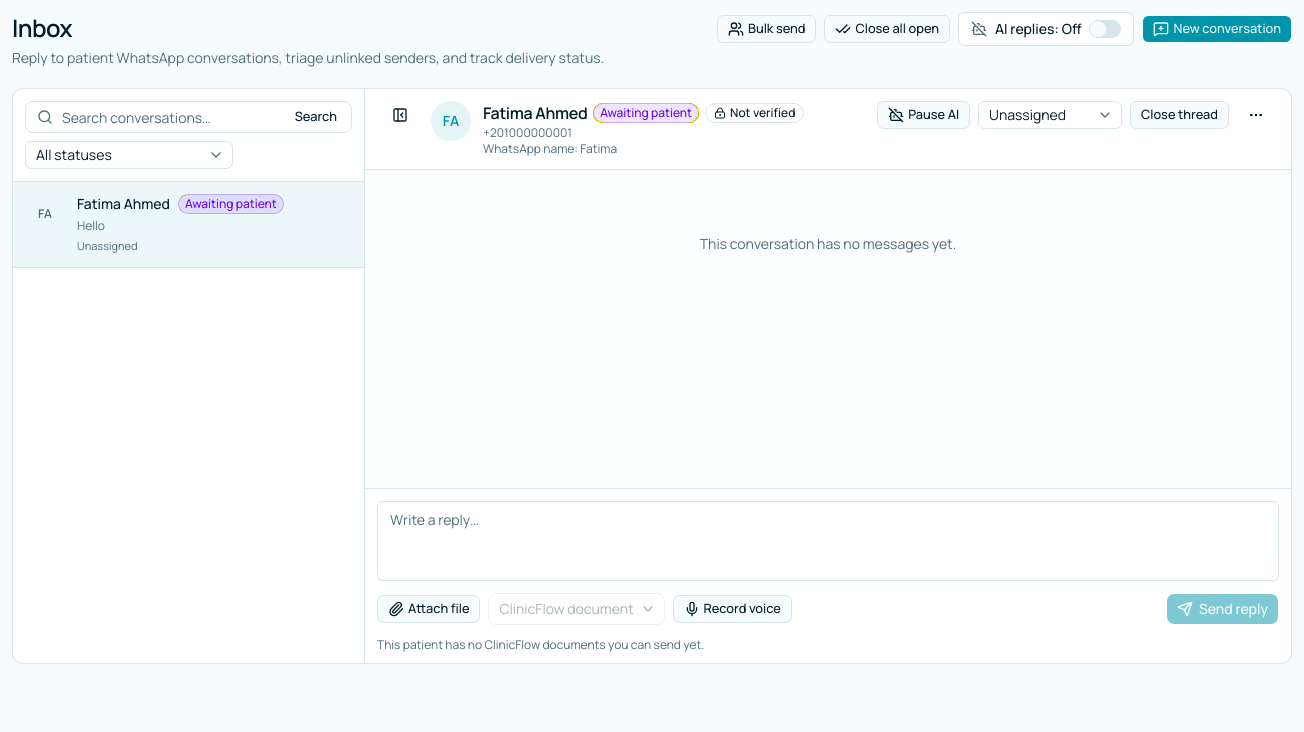
Test: the laptop layout › brings the list back
The image size is (1304, 732).
Click the button with test id "conversation-list-toggle": (400, 115) 381,101 -> 419,129
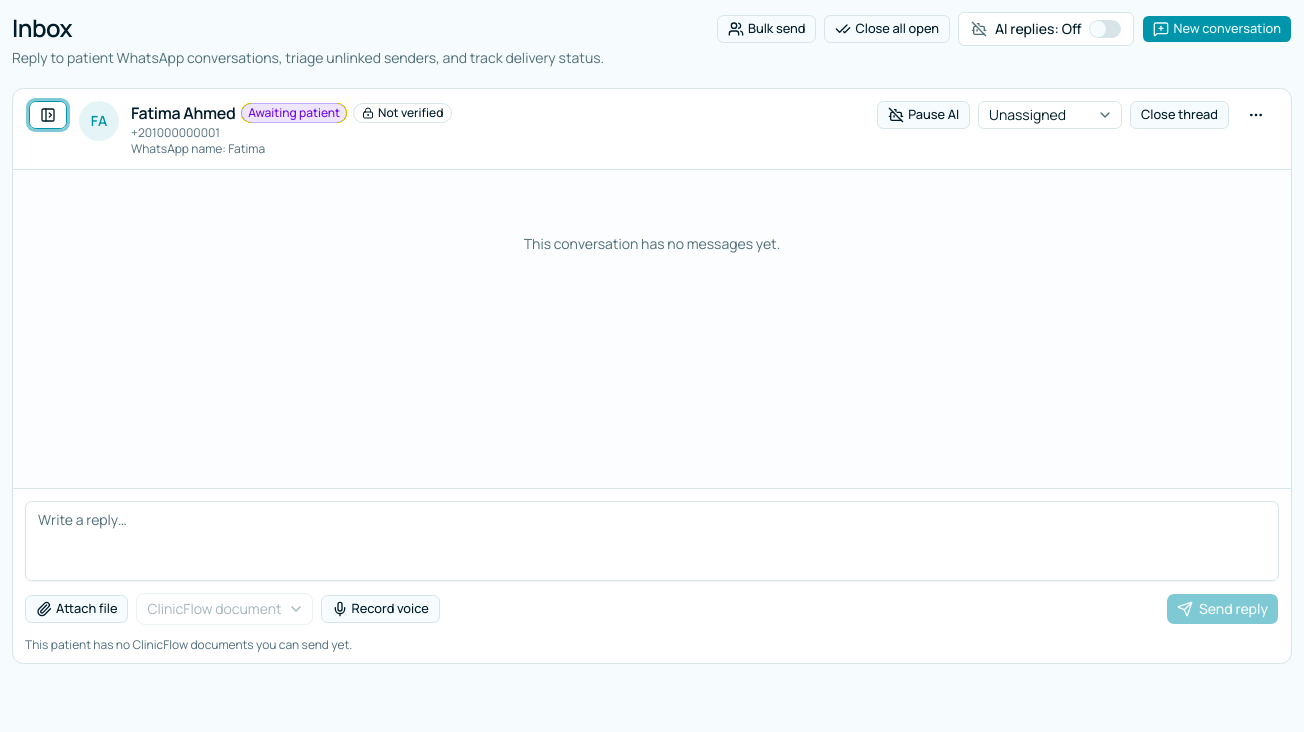
Click the button with test id "conversation-list-toggle": (48, 115) 29,101 -> 67,129
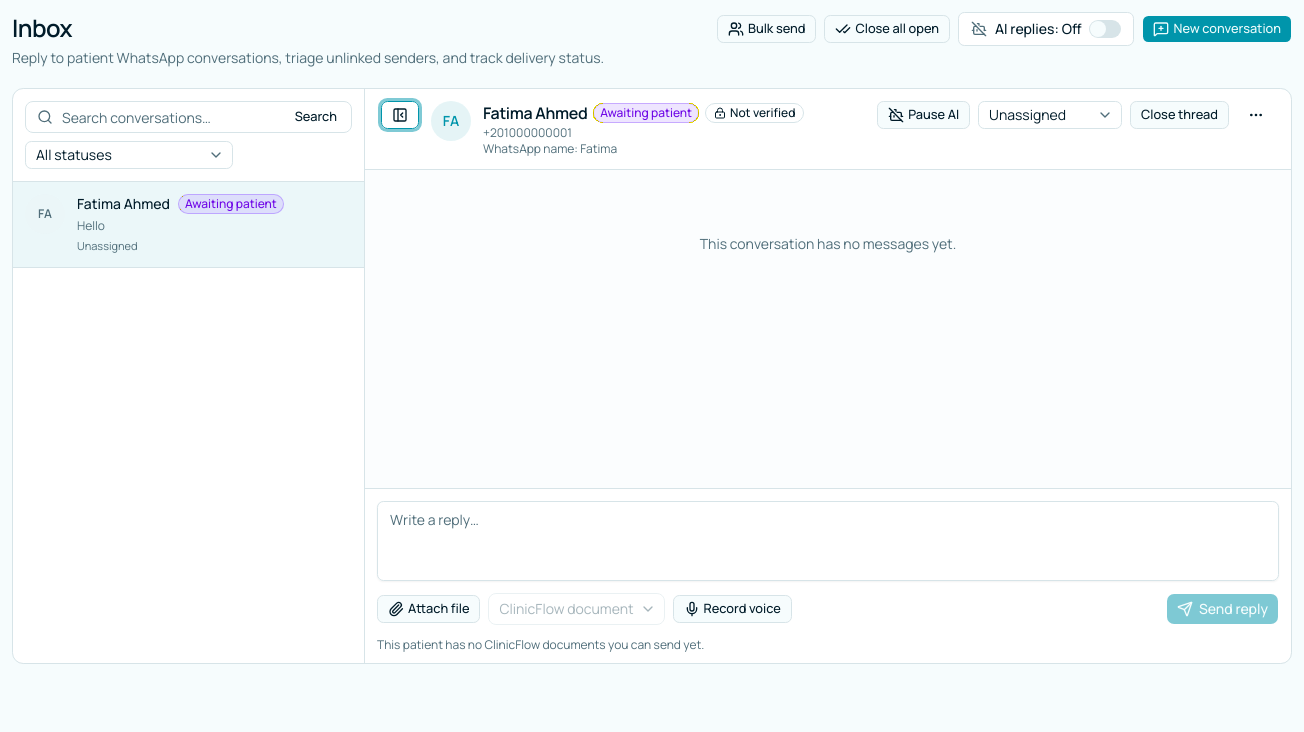
Result: the element with test id "conversation-list-scroll" is shown at 13,182 -> 364,268
